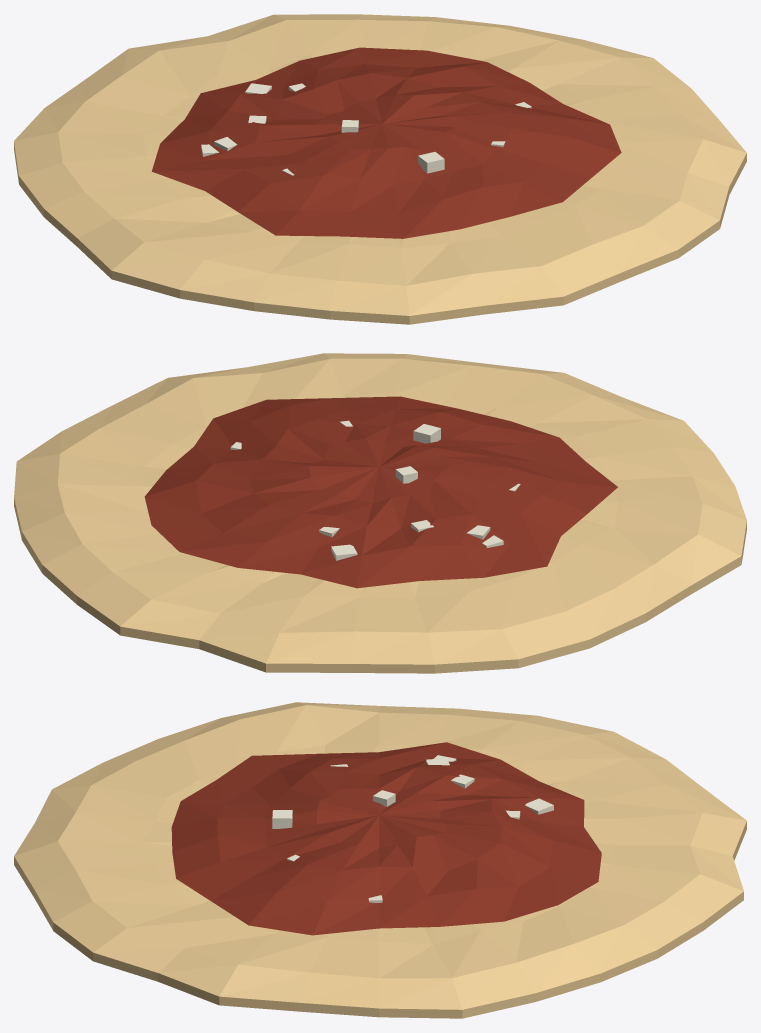
File: OpenMeatQutab.obj
3 renders of one model, top to bottom at view 1: azimuth 30°, elevation 25°; view 2: azimuth 150°, elevation 25°; view 3: azimuth 270°, elevation 25°, orthographic. The views are drawn at different scales.
Visible parts, largest first — view 1: OpenQutab; view 2: OpenQutab; view 3: OpenQutab.
Boxes of the visible parts, <box> form: OpenQutab: <box>14,14,746,324</box>; OpenQutab: <box>14,353,746,673</box>; OpenQutab: <box>14,702,746,1018</box>.
Size of the model in its own units: 0.2991 by 0.0251 by 0.3012.
